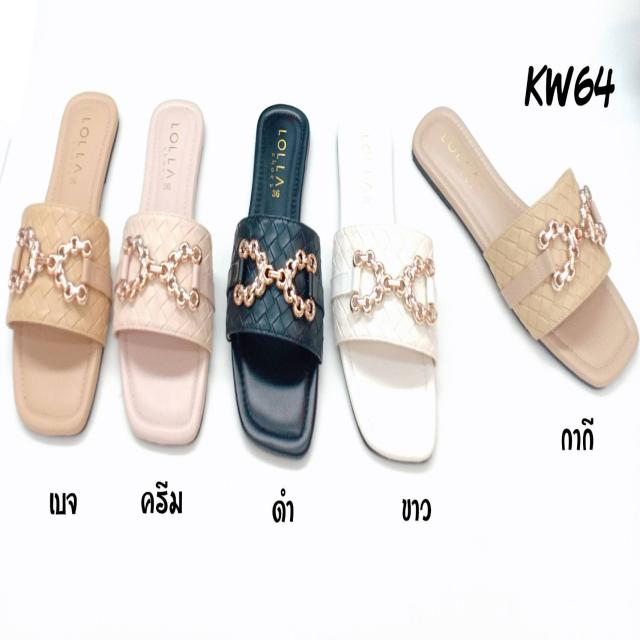bej: (10, 91, 120, 440)
black: (229, 101, 314, 448)
cream: (118, 99, 210, 447)
kakee: (412, 103, 637, 387)
white: (334, 112, 438, 460)
